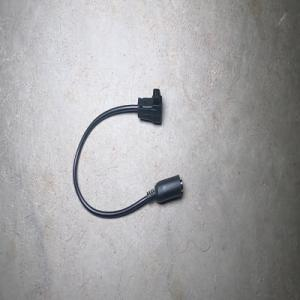Wire: (72, 88, 183, 218)
